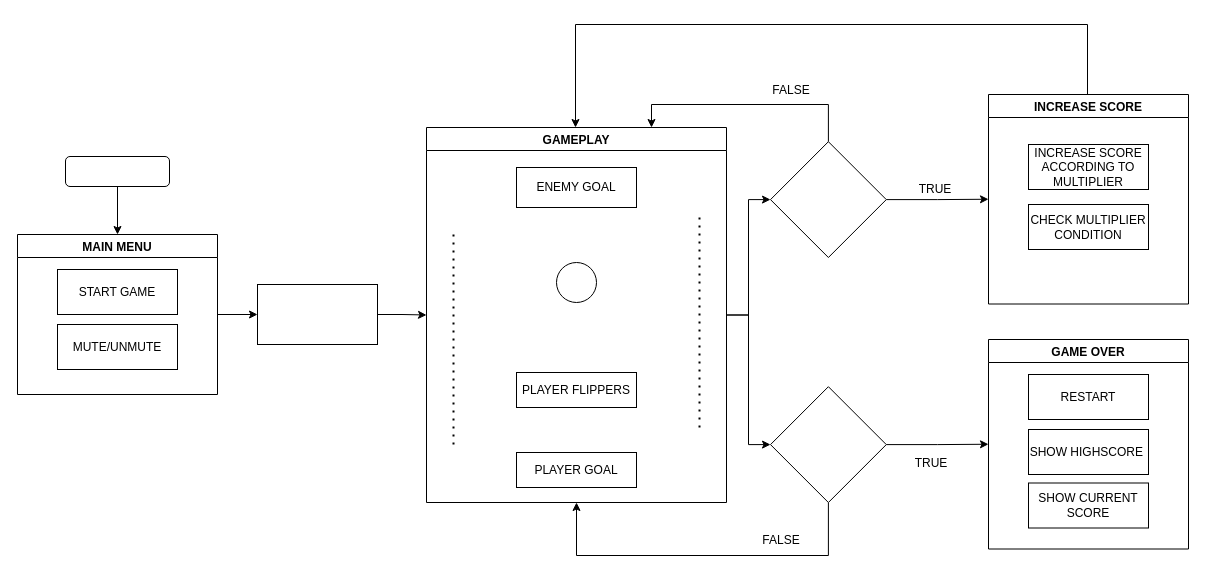
This 1206x581 diagram has some shape labels left out. Each missing label, with the centre of its shape:
"BALL" goes at [576,282].
"ENEMY SCORED GOAL" goes at [828,444].
"PLAYER SCORED GOAL" goes at [828,199].
"SPAWN BALL AT RANDOM POSITION" goes at [317,314].
"START" goes at [117,171].
